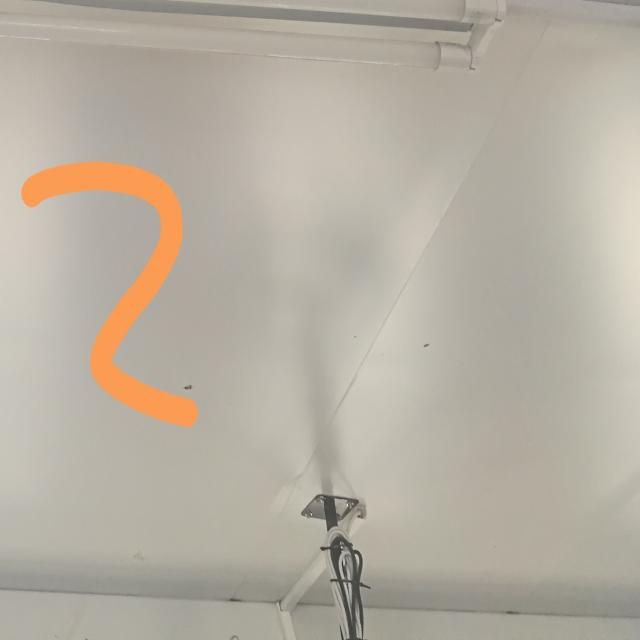fluorescent tube: (0, 0, 521, 112)
